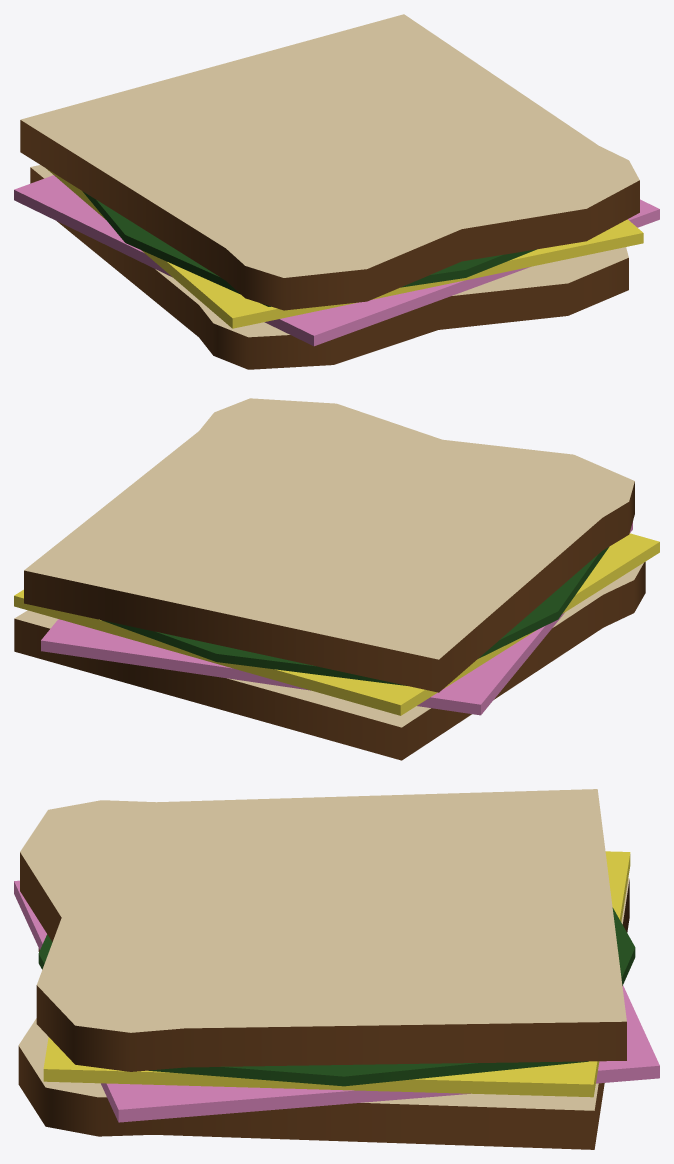
File: Asset_Sandwich.fbx
3 renders of one model, top to bottom at view 1: azimuth 30°, elevation 25°; view 2: azimuth 150°, elevation 25°; view 3: azimuth 270°, elevation 25°, orthographic. The views are drawn at different scales.
Visible parts, largest first — view 1: Asset_Sandwich; view 2: Asset_Sandwich; view 3: Asset_Sandwich.
Boxes of the visible parts, x1,y1,x2,y2 form: Asset_Sandwich: (14,14,659,369); Asset_Sandwich: (14,398,659,760); Asset_Sandwich: (14,789,659,1149).
Size of the model in its own units: 27.19 by 5.33 by 27.19.
